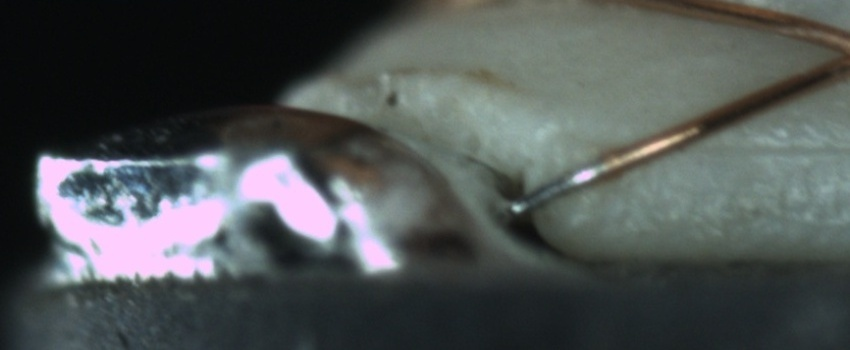DL: (683, 115, 850, 178)
TS: (504, 161, 606, 217)
